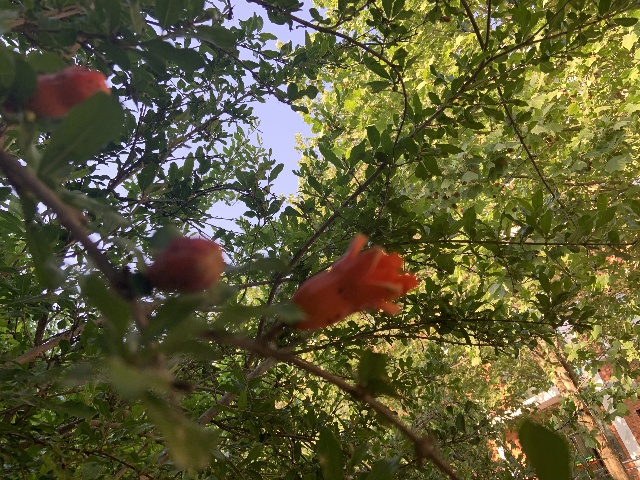bud: (142, 236, 224, 293), (25, 65, 112, 118)
flower: (290, 233, 418, 330)
